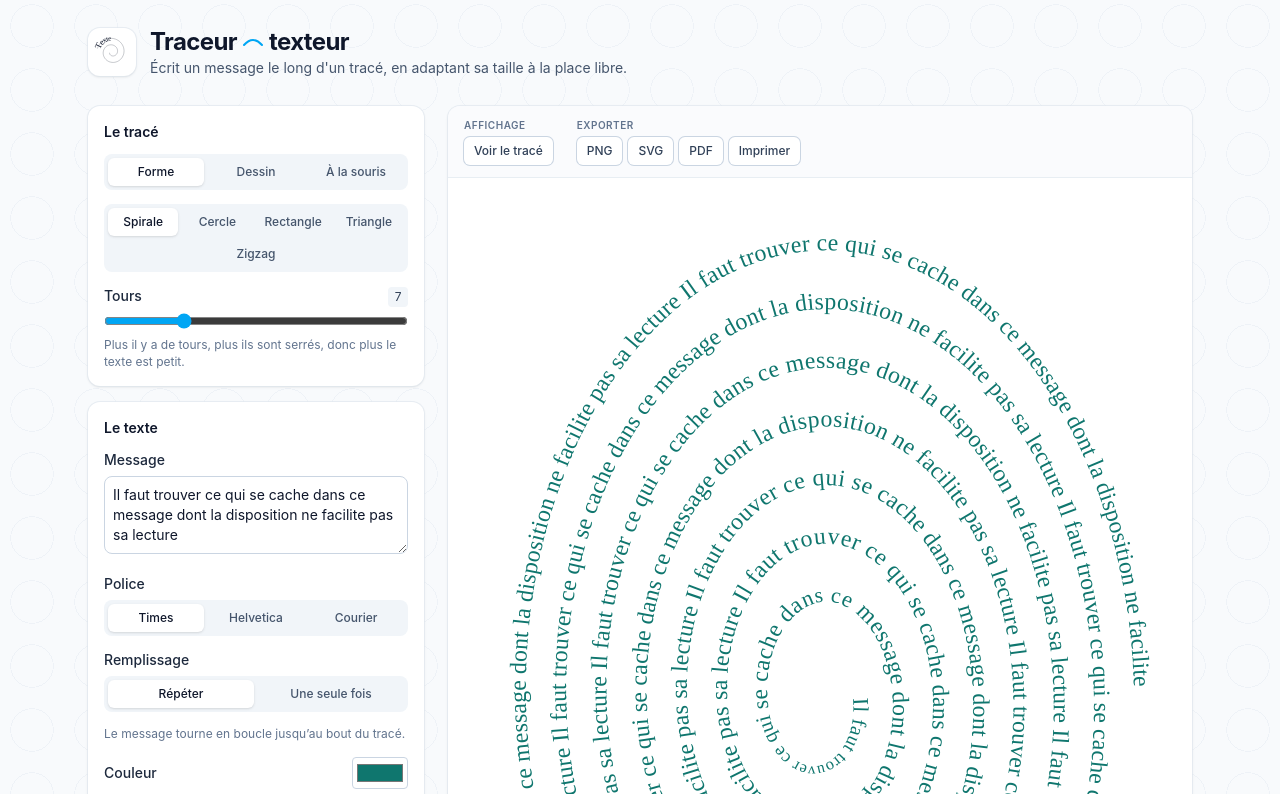
Test: App › compose le texte sur un trait fait à la souris
Click the button "À la souris" at (356, 172), box [308, 158, 404, 186]
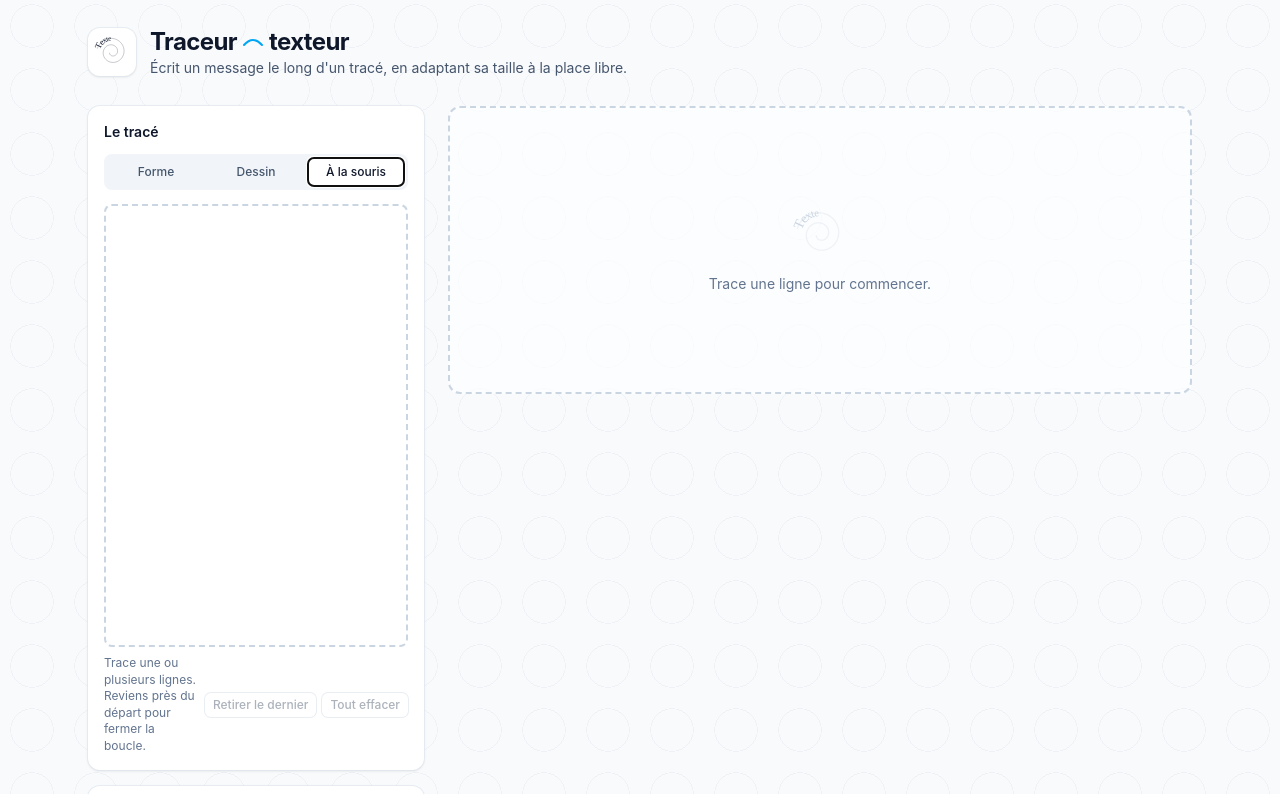
Press the mouse on the element named "tracé à la souris" at (256, 426), box [104, 204, 408, 647]
(page scrolled)
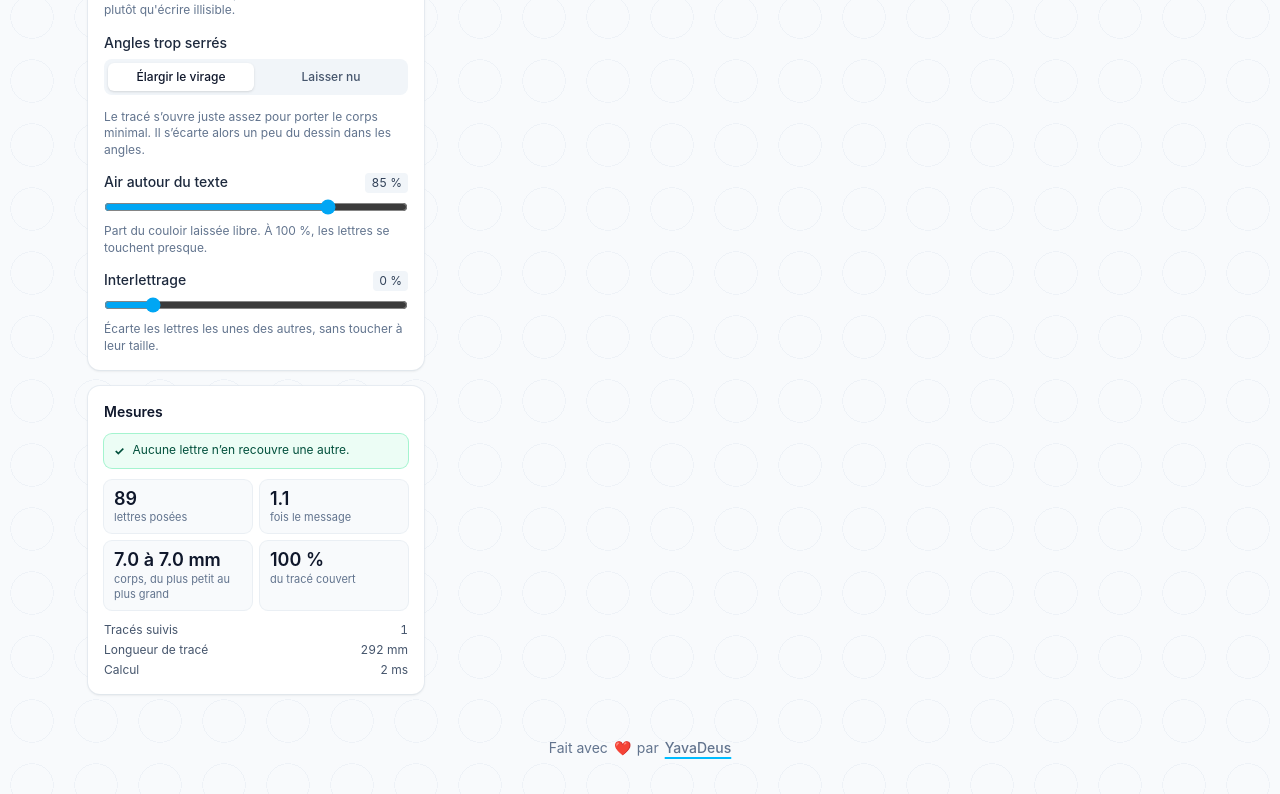
Now the message shows "Aucune lettre", box [133, 442, 350, 457]
